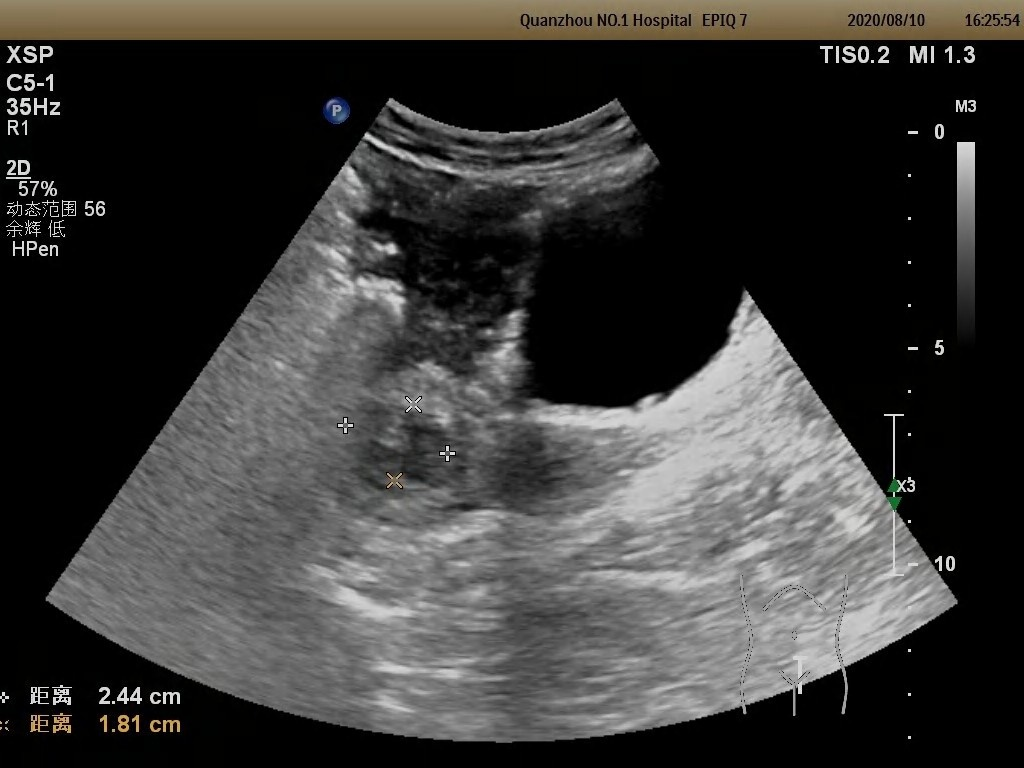肌瘤: (382, 415, 446, 480)
